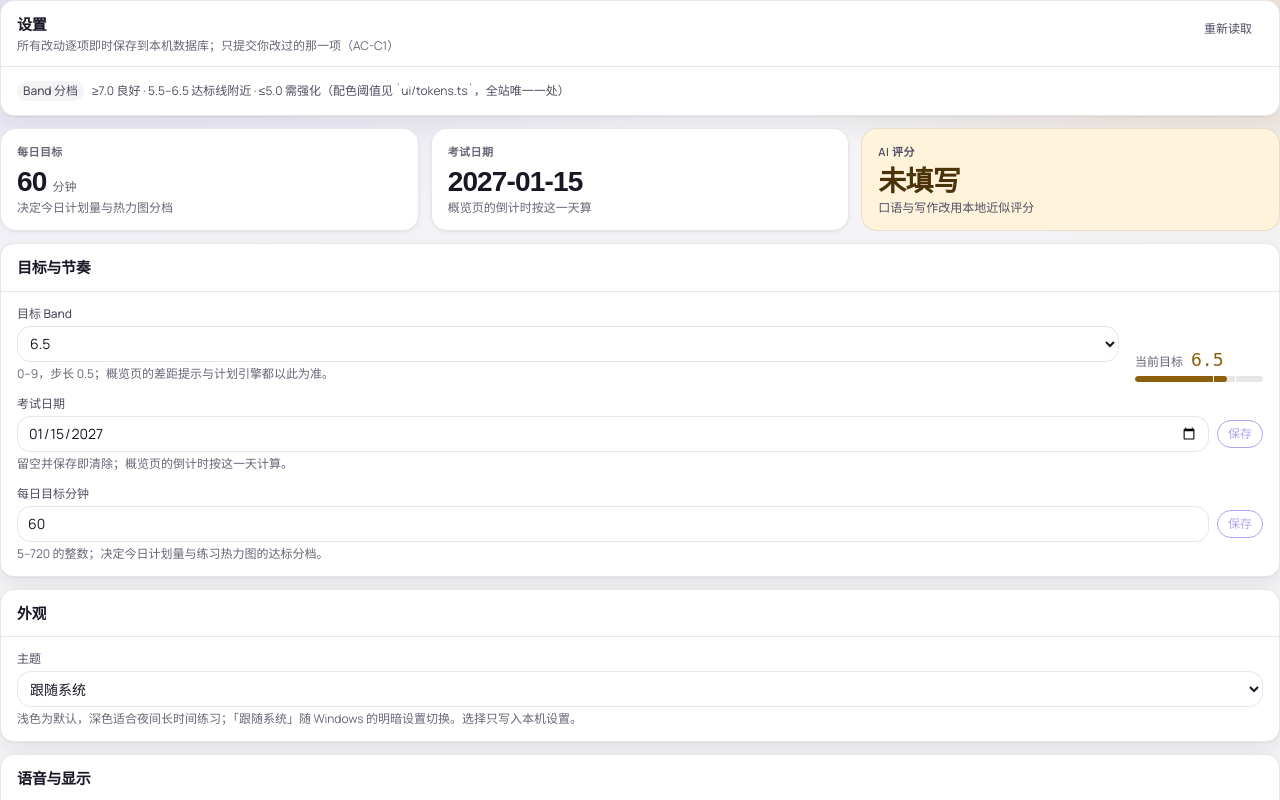
Scenario: AC-C1 逐项 PATCH › 文本项先显示未保存、点了保存才发请求，成功后显示已保存
The width and height of the screenshot is (1280, 800).
Check: the dropdown labelled "目标 Band" shows "6.5", box [17,326,1119,362]
Replace the text in the number field with id "setting-daily-goal" with "90" at coordinates (613, 524), box [17,506,1209,542]
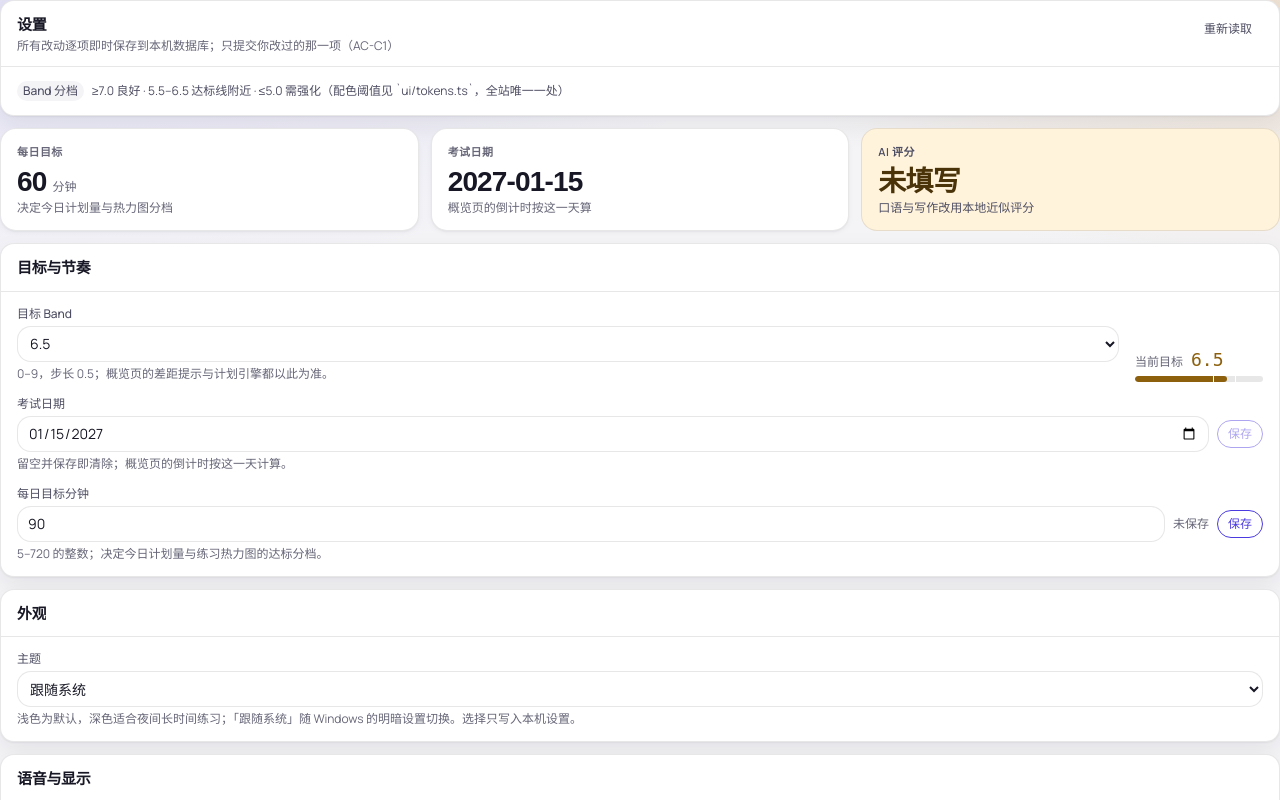
Check: the text "未保存" is shown, box [1173,516,1209,532]
Click the button "保存" next to "未保存" at coordinates (1240, 524), box [1217,510,1263,538]
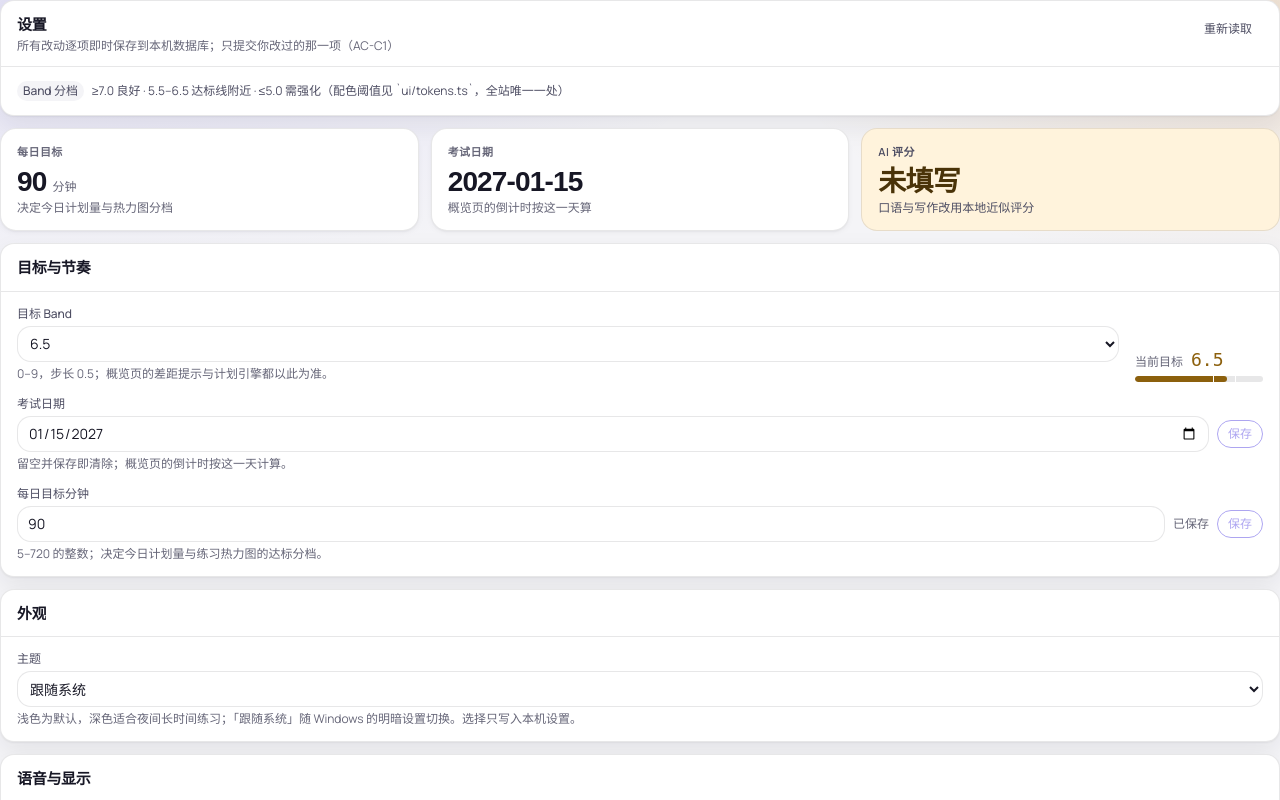
Check: the text "已保存" is shown, box [1173,516,1209,532]
